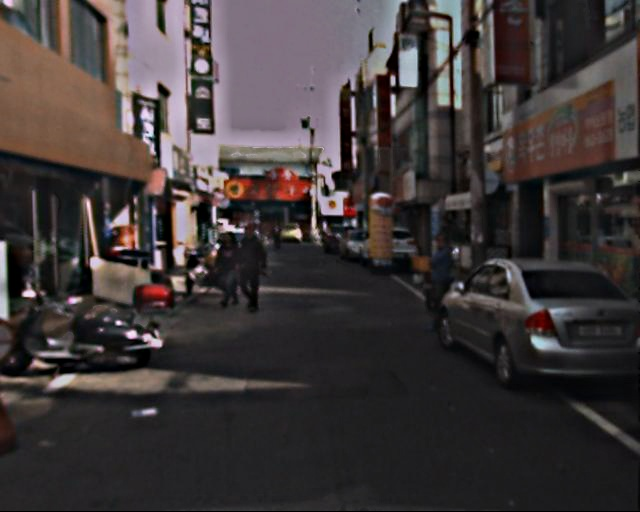person: (423, 228, 465, 337), (236, 218, 270, 315), (213, 224, 245, 305), (271, 223, 285, 251)
